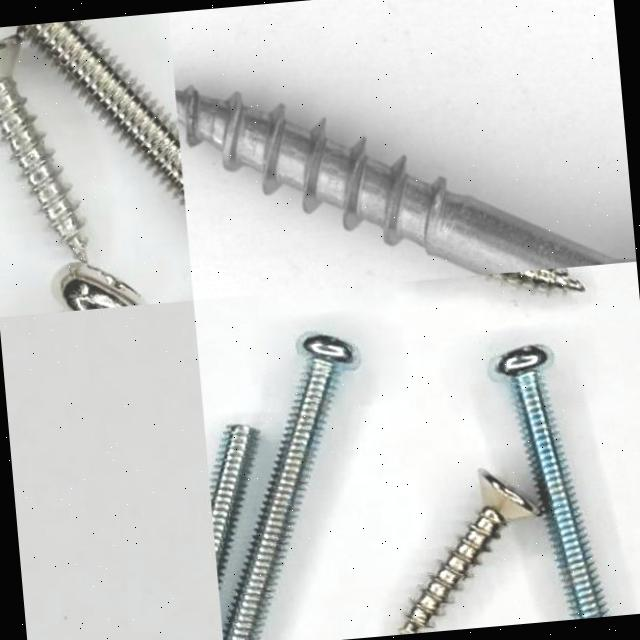Screw: (171, 12, 636, 300), (222, 334, 353, 640), (491, 345, 608, 619), (13, 20, 184, 201), (398, 470, 540, 634), (0, 34, 85, 263), (209, 424, 256, 587), (488, 268, 584, 289)
